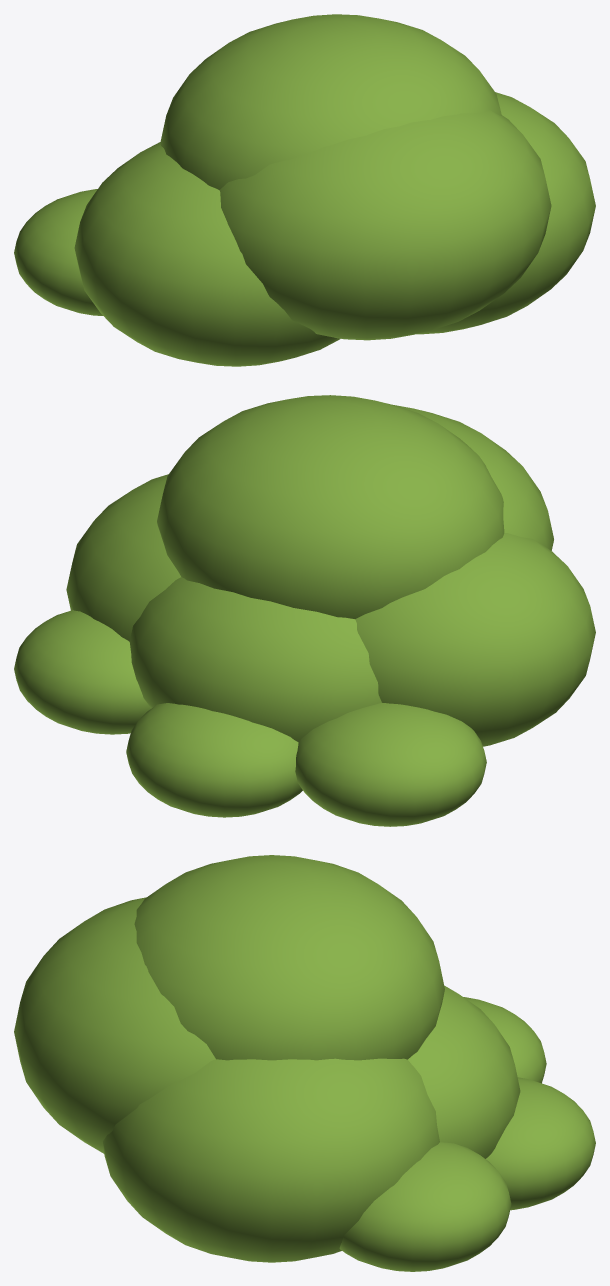
The model's file is flower_cooldown.fbx.
3 views of the same model, one above another, from view 1: azimuth 30°, elevation 25°; view 2: azimuth 150°, elevation 25°; view 3: azimuth 270°, elevation 25° (orthographic). The views are drawn at different scales.
Visible parts, largest first — view 1: flower_cooldown; view 2: flower_cooldown; view 3: flower_cooldown.
Boxes of the visible parts, x1,y1,x2,y2 form: flower_cooldown: [14, 14, 595, 366]; flower_cooldown: [14, 395, 595, 826]; flower_cooldown: [14, 855, 595, 1271].
Bounding box in the file's own units: 1 × 0.6 × 1.
Materials: 1 (1 with a texture image).
